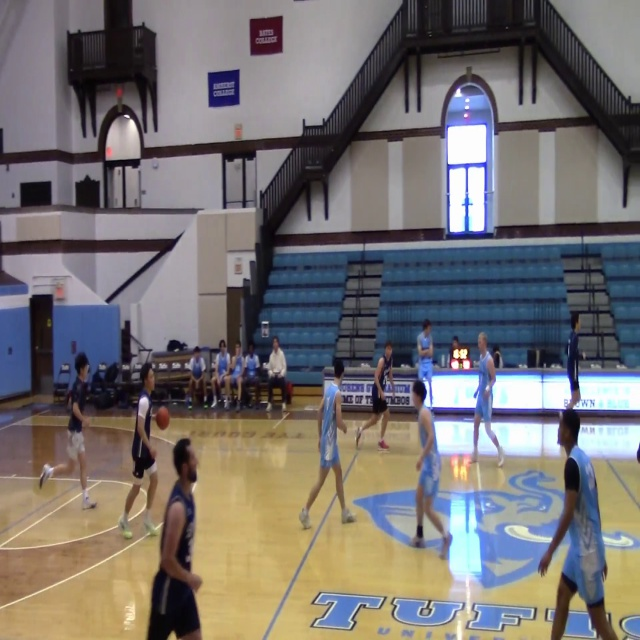Basketball: (155, 406, 170, 430), (637, 445, 640, 463)
